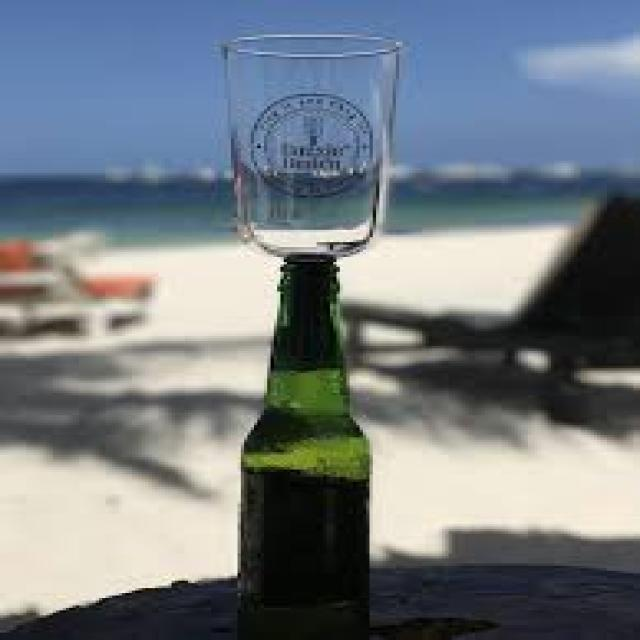glass: (241, 252, 363, 638), (218, 32, 396, 255)
